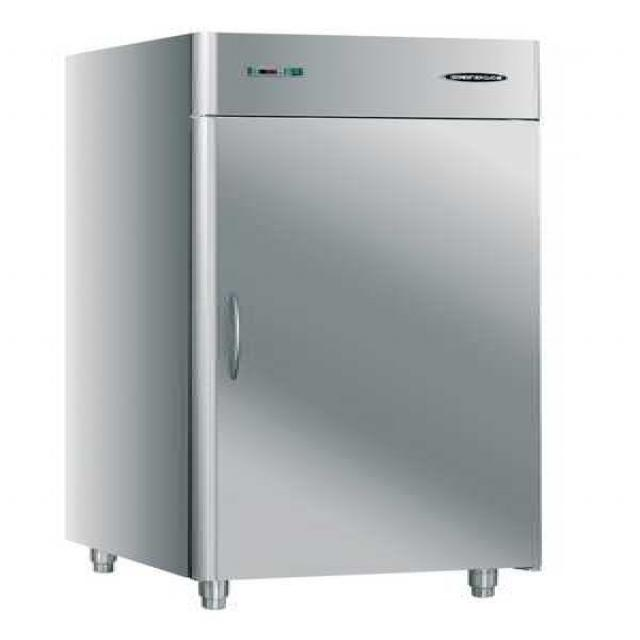refrigerator: (67, 31, 542, 576)
